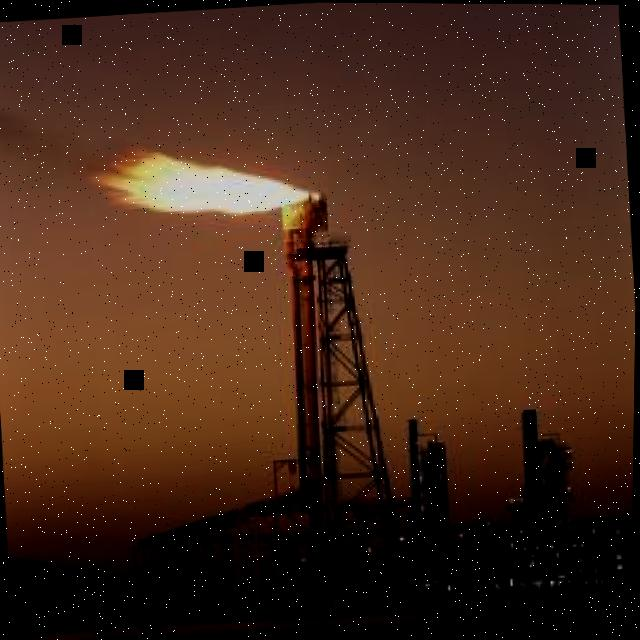fire: (90, 147, 322, 214)
